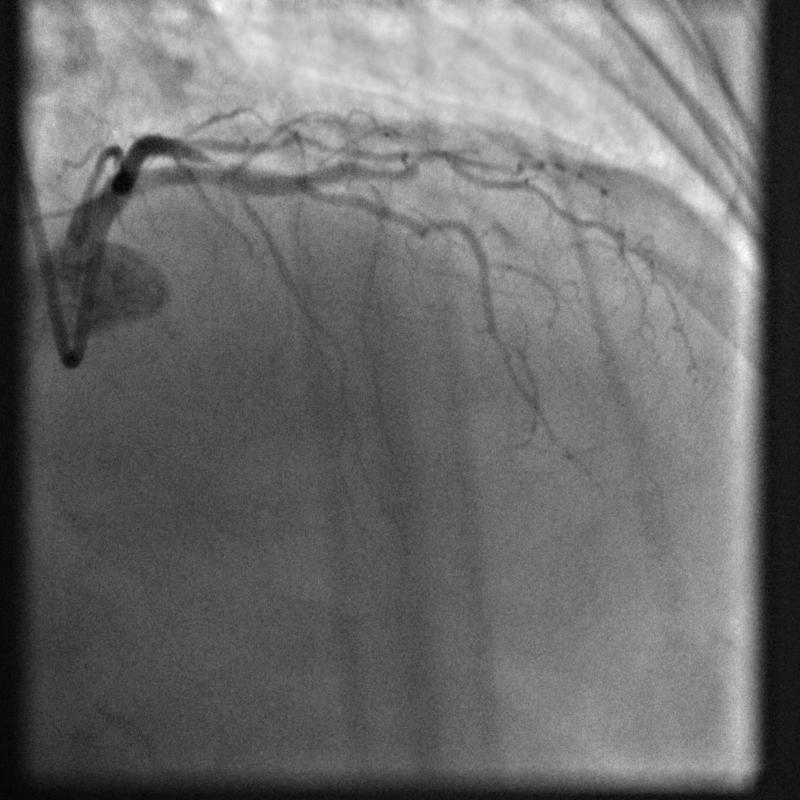Stenosis: (191, 148, 253, 178)
